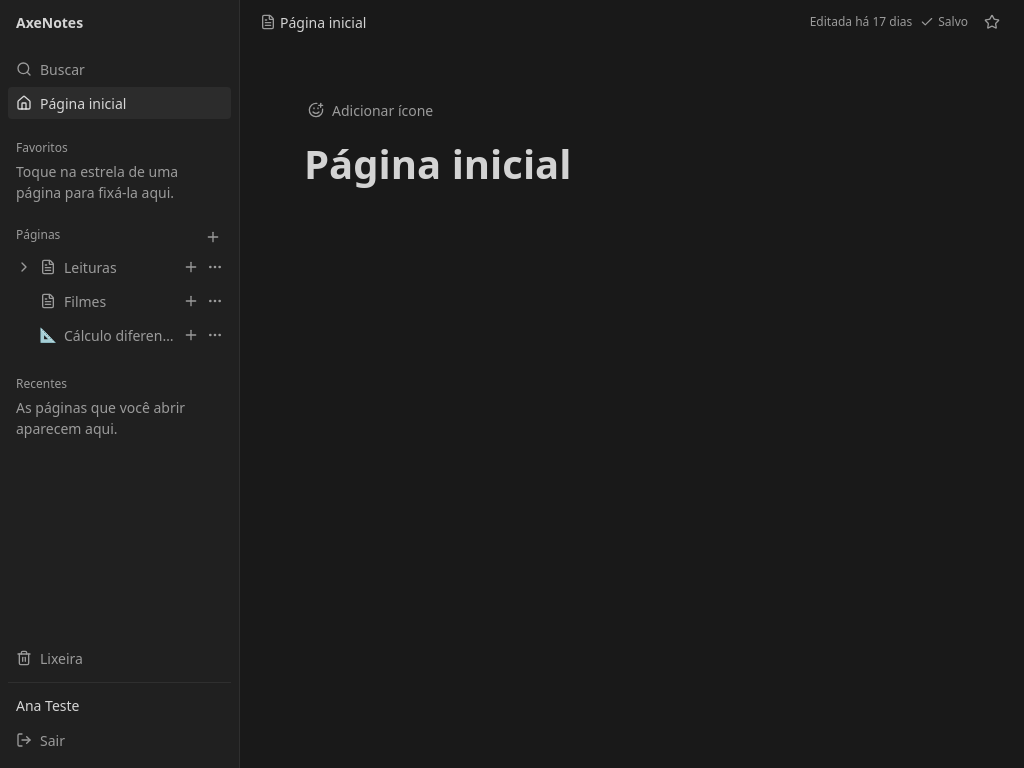
buscar › finds a title without accents or capitals, with icon, and hides the trash
Type keys "{Control>}k{/Control}"
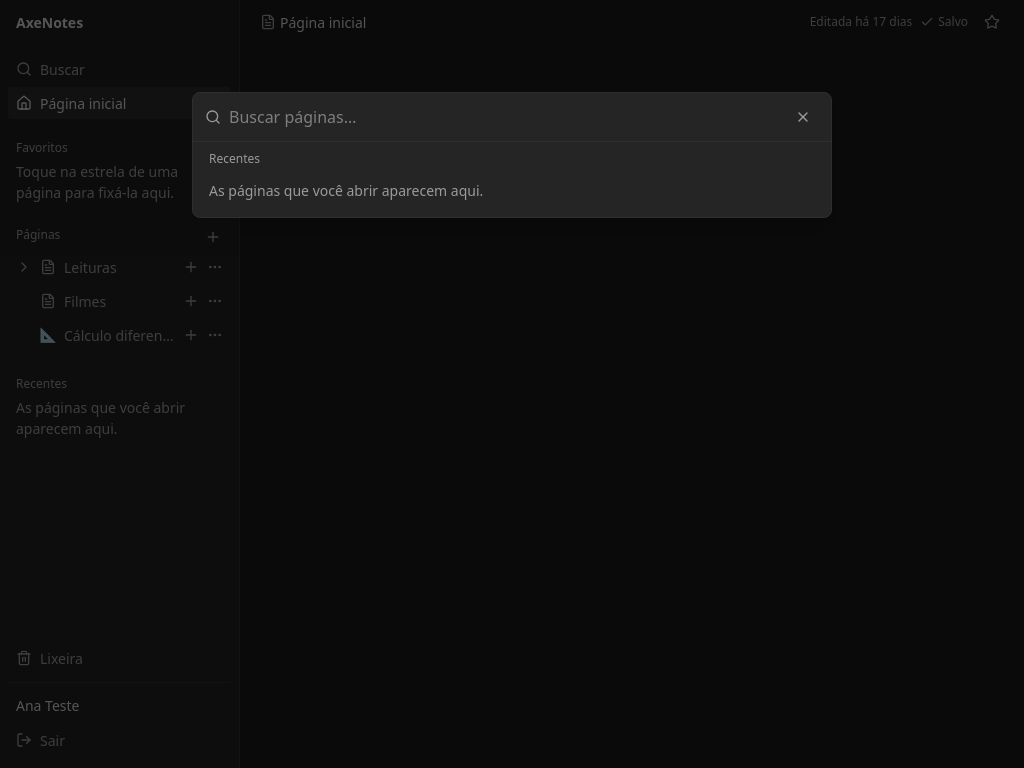
In the dropdown labelled "Buscar páginas": (504, 117) [229,93,779,141], type "CALCULO"
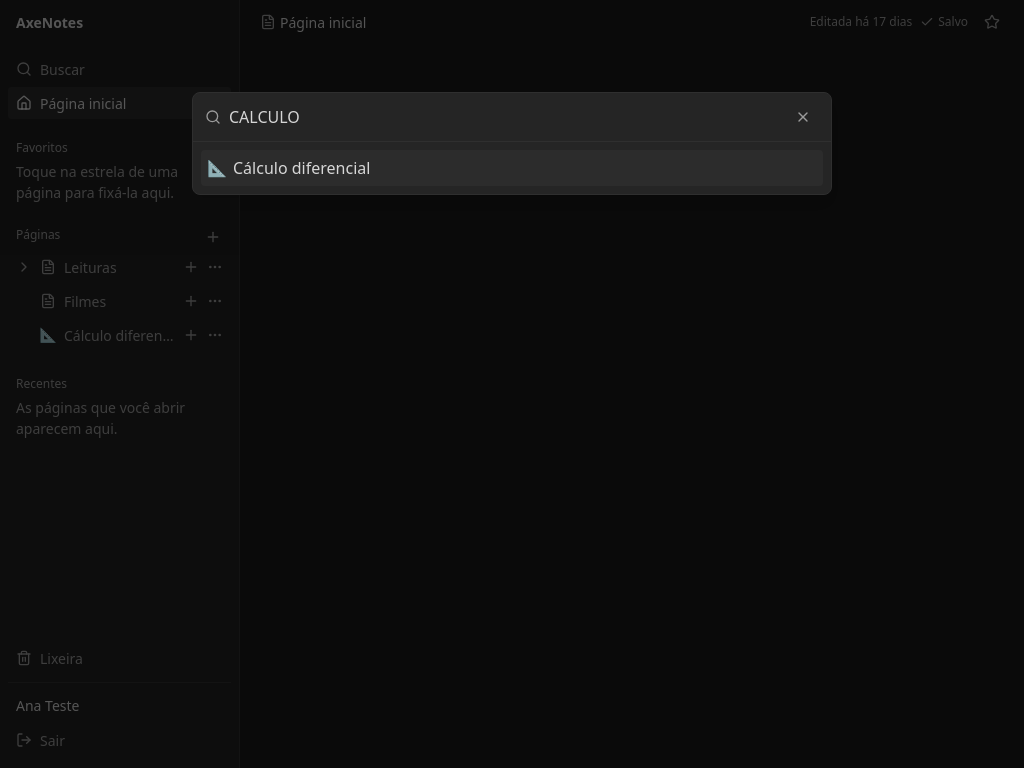
expect the options read "📐Cálculo diferencial", in this order: met, box [201,150,823,186]
